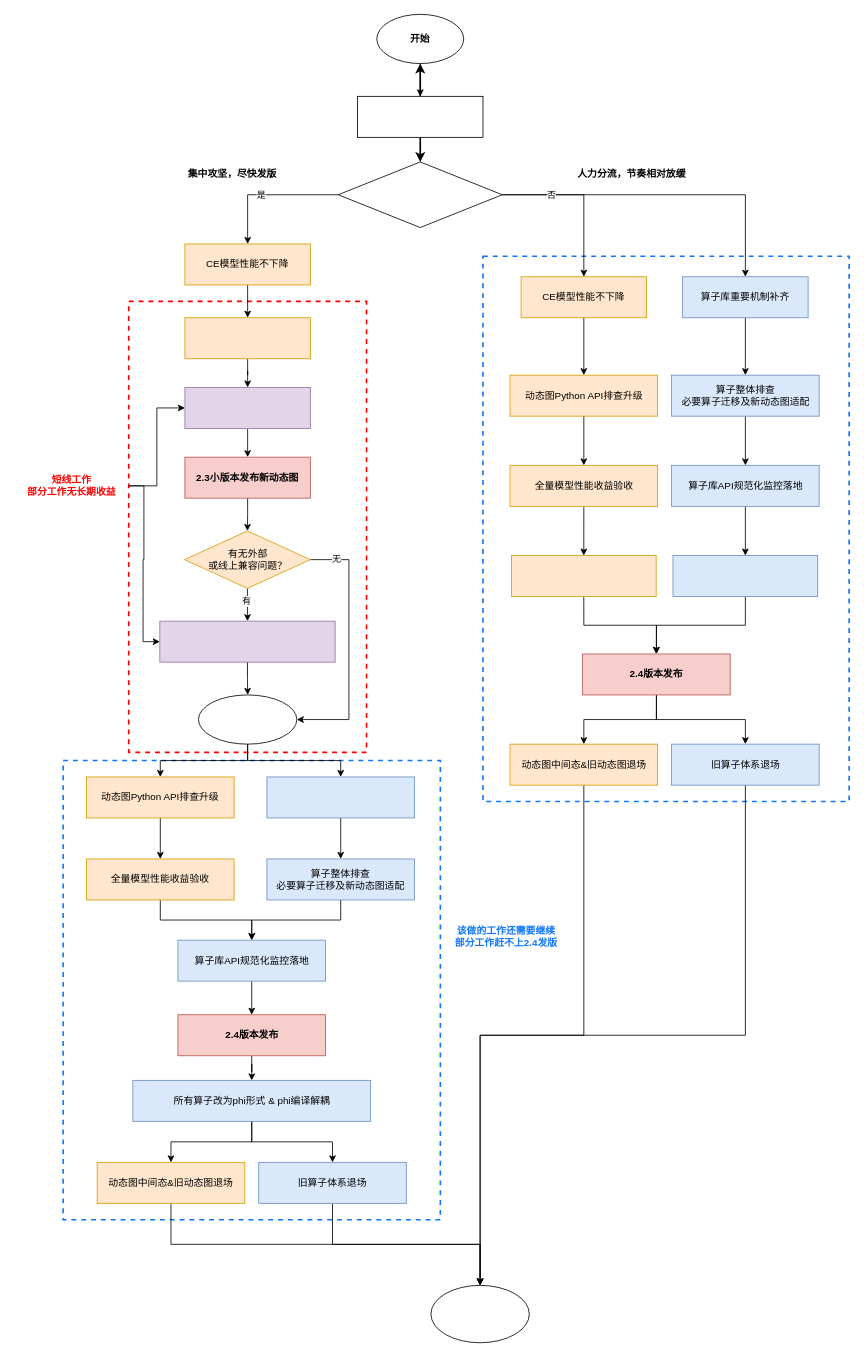
Some shapes in this 864 by 1357 pixel diagram are drawn without their labels. The shapes that lost their labels are listed below. From the top down, each one's centre as x and y in pixels, then its label:
At [420,116]: "动态图CI默认模式切换 CE模型正确性保证".
At [419,194]: "是否小版本发布新动态图".
At [247,338]: "5个重点模型性能分析 必要算子+API升级".
At [247,407]: "小版本兼容补齐 （做不到完全对齐）".
At [583,576]: "不兼容升级点全局梳理 & 评审决策".
At [745,576]: "所有算子改为phi形式 phi编译解耦".
At [247,641]: "紧急投入人力加trick，增发下个小版本 or 建议用户切换回旧动态图".
At [247,719]: "2.3小版本收尾".
At [340,797]: "补齐算子库机制".
At [479,1314]: "阶段性收尾".
